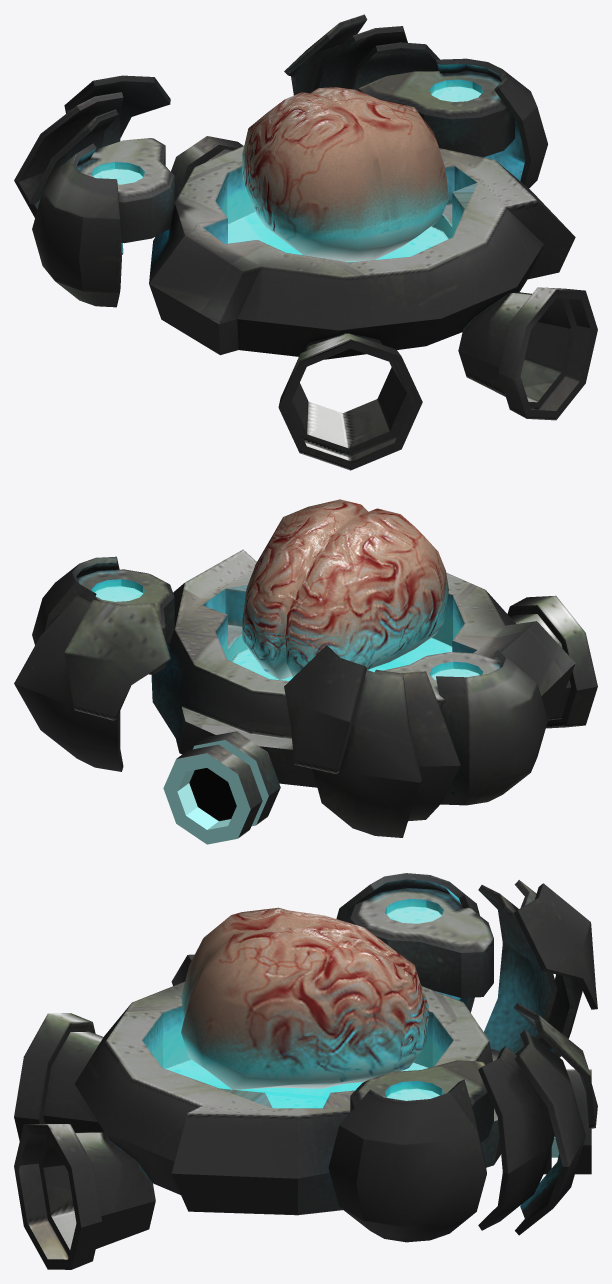
The model's file is Brain Bot04.fbx.
3 renders of one model, top to bottom at view 1: azimuth 30°, elevation 25°; view 2: azimuth 150°, elevation 25°; view 3: azimuth 270°, elevation 25°, orthographic. The views are drawn at different scales.
Parts seen in each view (by area): view 1: Cylinder, Brain_Low; view 2: Cylinder, Brain_Low; view 3: Cylinder, Brain_Low.
Boxes of the visible parts, x1=… form: Cylinder: x1=14, y1=14, x2=597, y2=470; Brain_Low: x1=242, y1=87, x2=448, y2=261; Cylinder: x1=14, y1=549, x2=597, y2=844; Brain_Low: x1=242, y1=499, x2=448, y2=679; Cylinder: x1=14, y1=873, x2=597, y2=1269; Brain_Low: x1=181, y1=907, x2=428, y2=1089.
Bounding box in the file's own units: 595 × 305 × 552.
